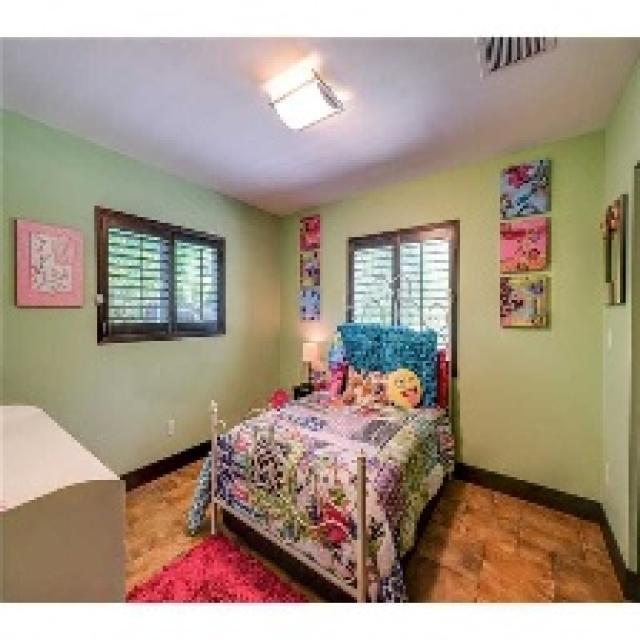Bed: (206, 323, 454, 600)
